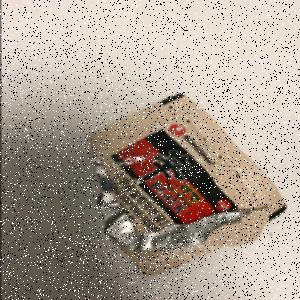Trash: (86, 94, 290, 278)
